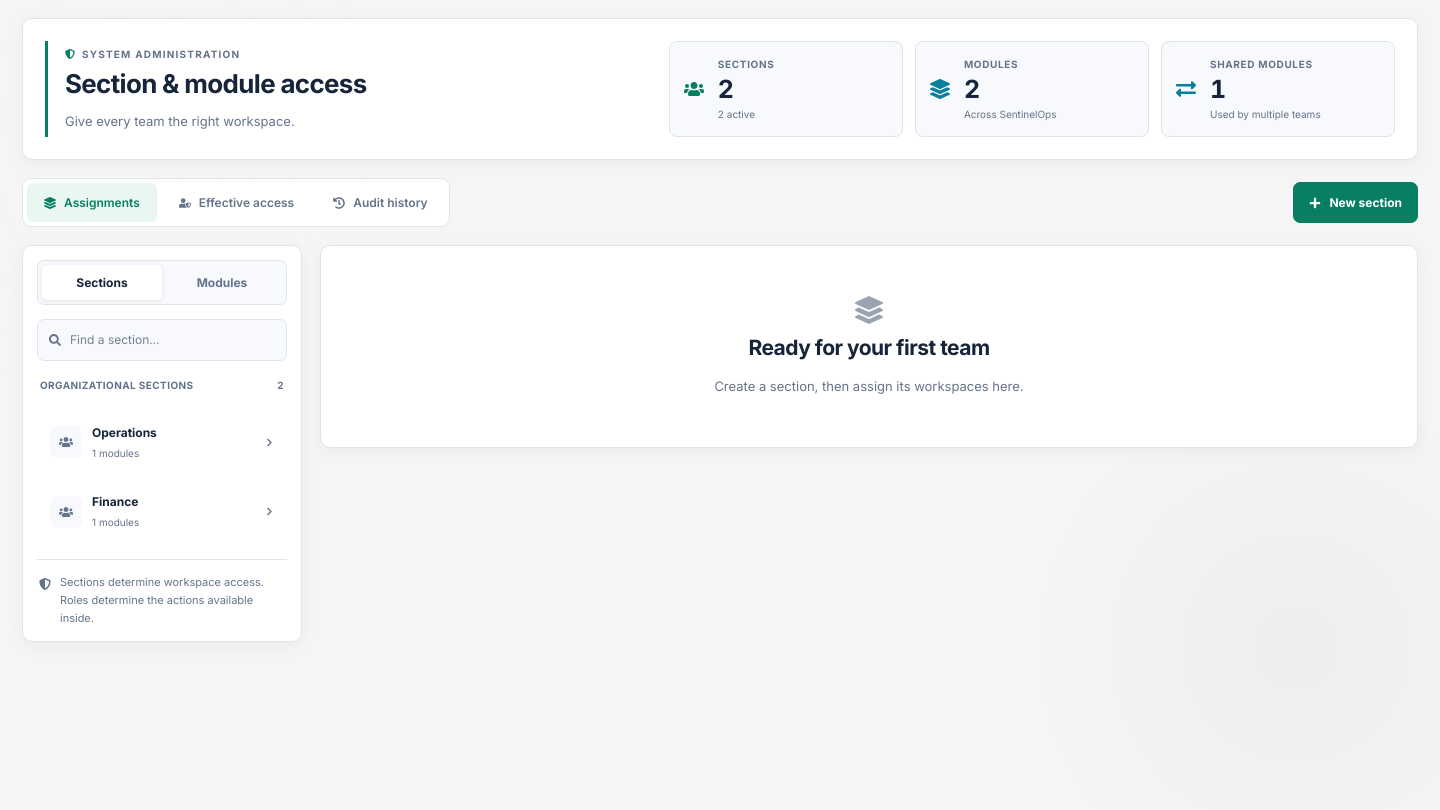
it: operator directory and audit history load only when opened
Expected: the button "Operations 1 modules" is shown, [39, 411, 285, 474]
What coordinates should you click on to do the following:
click the button "Effective access"
I would click on:
 (236, 203)
Its box is [162, 183, 311, 222].
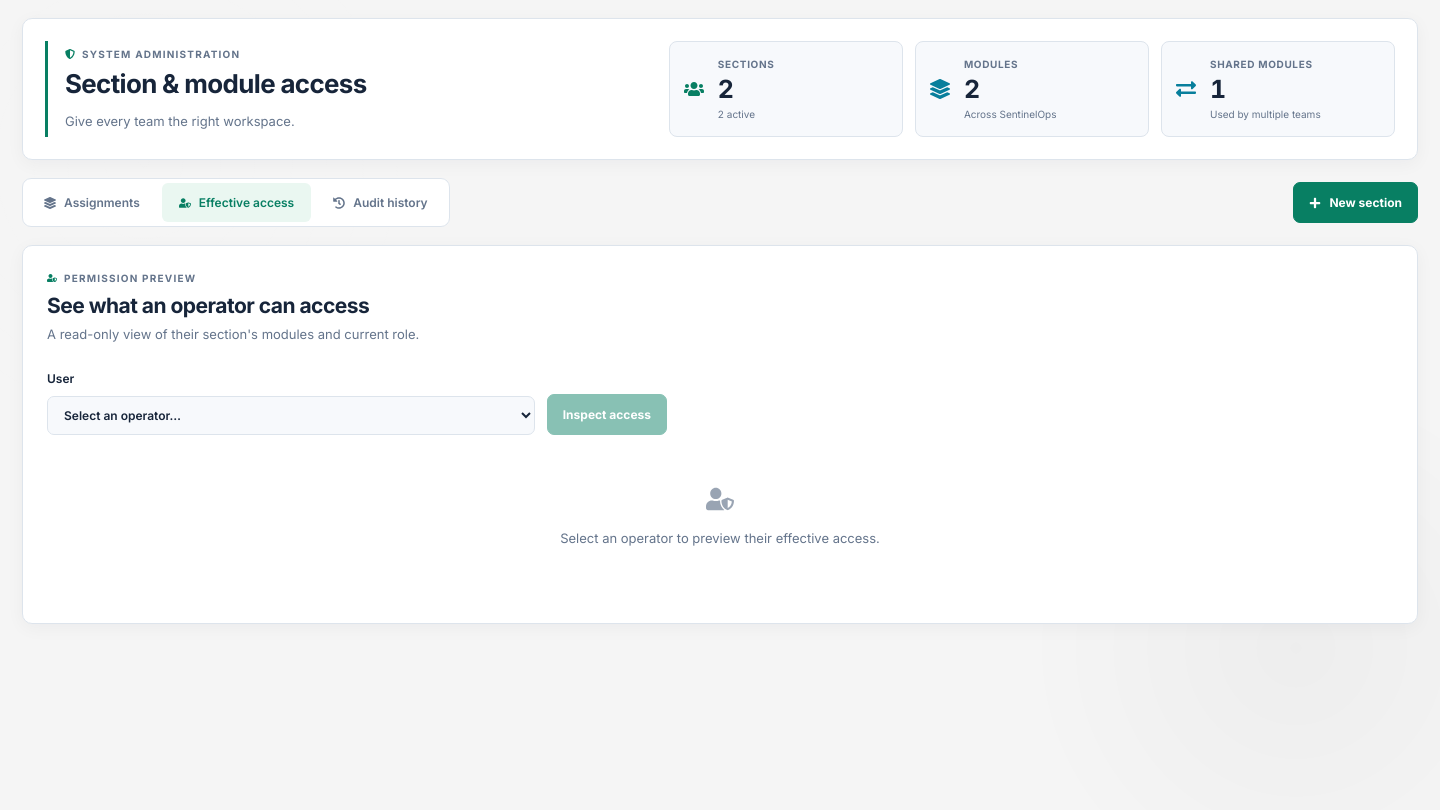
What coordinates should you click on to do the following:
click the button "Audit history"
I would click on:
 (380, 203)
Its box is [316, 183, 445, 222].
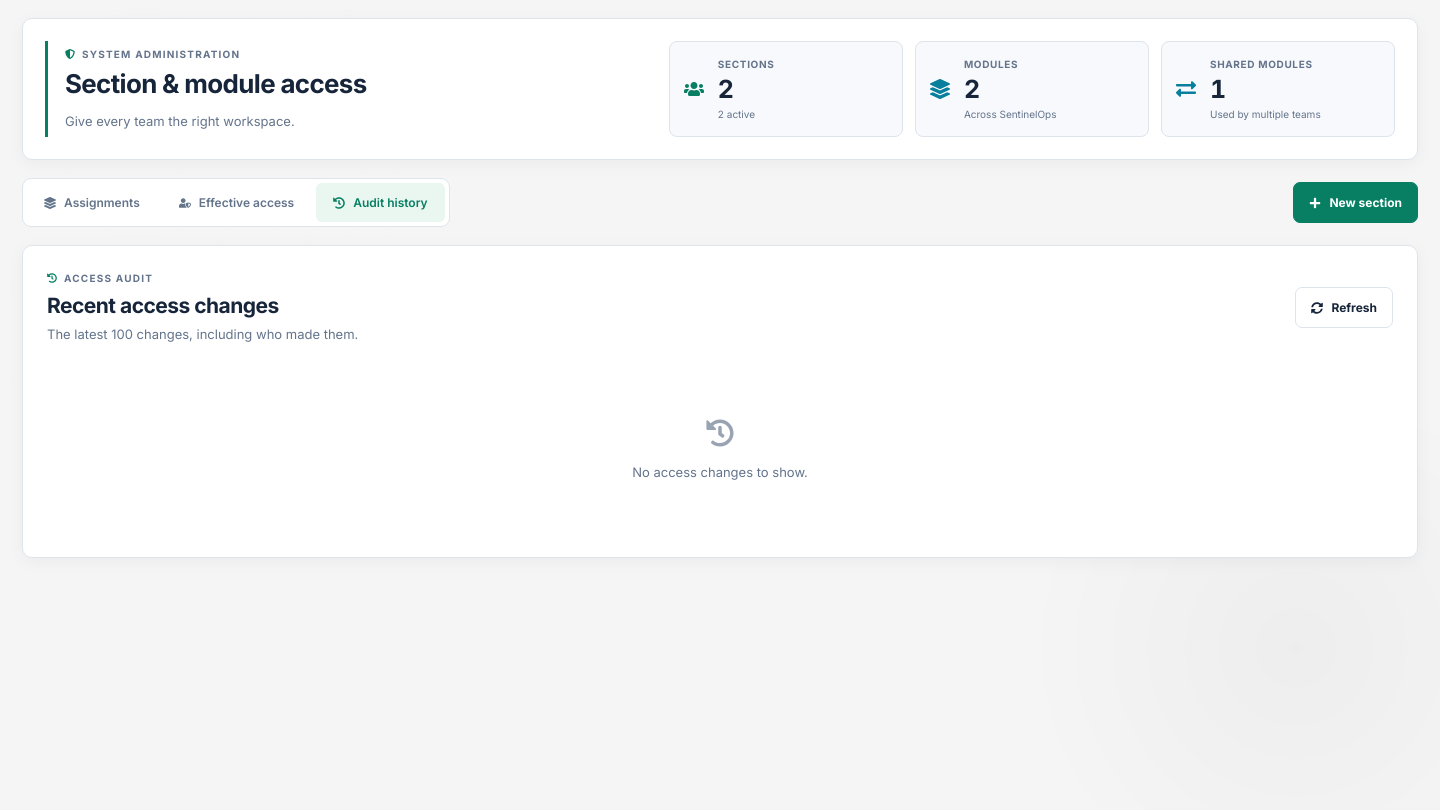
Result: the text "No access changes to show." is shown at [632, 462, 808, 483]
